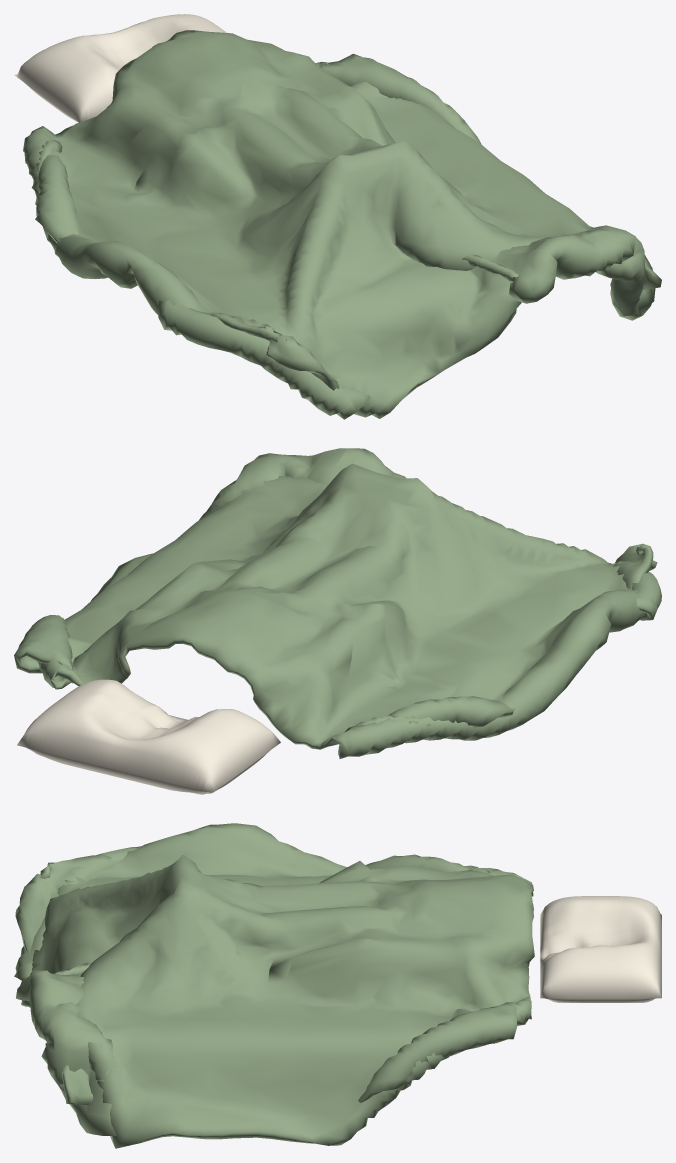
File: bedding-ghibli.glb
3 views of the same model, one above another, from view 1: azimuth 30°, elevation 25°; view 2: azimuth 150°, elevation 25°; view 3: azimuth 270°, elevation 25° (orthographic). The views are drawn at different scales.
Parts seen in each view (by area): view 1: sleep_duvet_ghibli, sleep_pillow_ghibli; view 2: sleep_duvet_ghibli, sleep_pillow_ghibli; view 3: sleep_duvet_ghibli, sleep_pillow_ghibli.
Boxes of the visible parts, bbox=[...] form: sleep_duvet_ghibli: bbox=[23, 30, 661, 419]; sleep_pillow_ghibli: bbox=[14, 14, 226, 122]; sleep_duvet_ghibli: bbox=[14, 448, 661, 758]; sleep_pillow_ghibli: bbox=[17, 679, 280, 794]; sleep_duvet_ghibli: bbox=[14, 823, 534, 1148]; sleep_pillow_ghibli: bbox=[540, 896, 661, 1002].
Bounding box in the file's own units: 1.93 × 0.7072 × 2.34.
